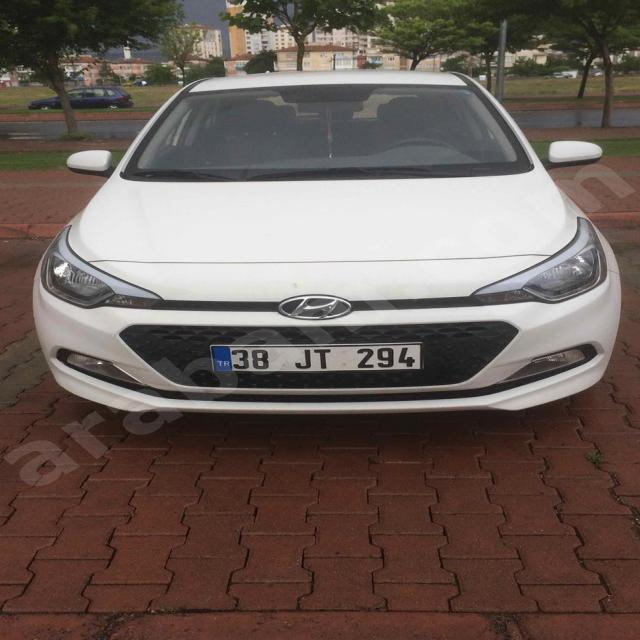license_plate: (210, 344, 422, 372)
